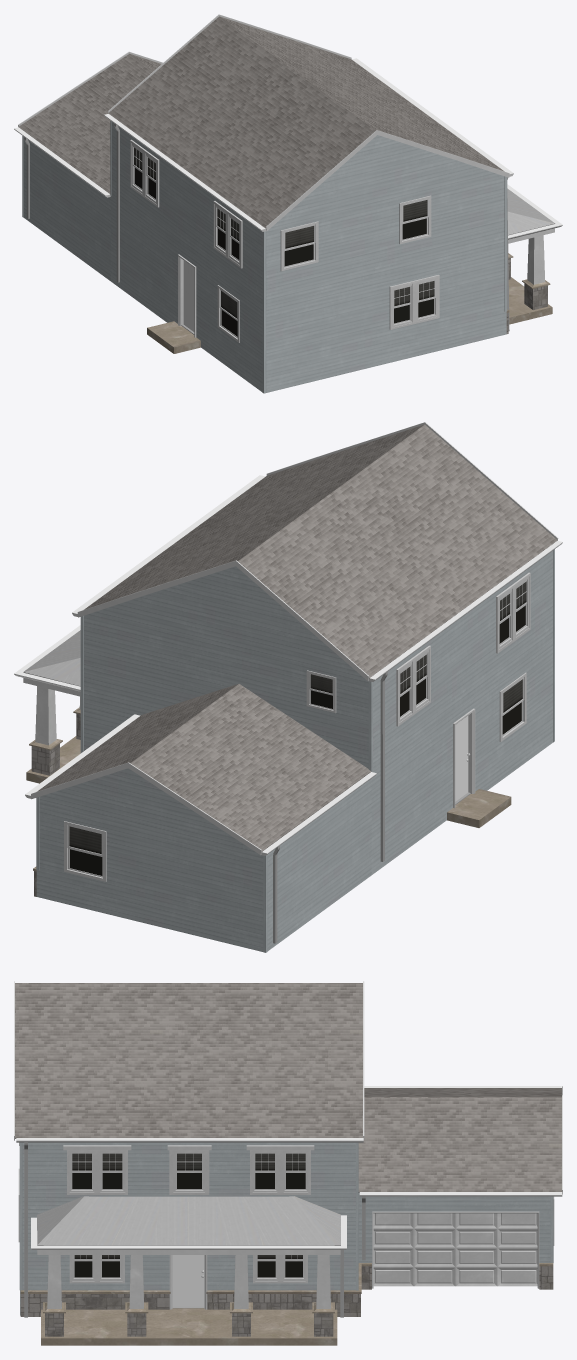
File: home-5.glb
3 views of the same model, one above another, from view 1: azimuth 30°, elevation 25°; view 2: azimuth 150°, elevation 25°; view 3: azimuth 270°, elevation 25° (orthographic). The views are drawn at different scales.
Visible parts, largest first — view 1: Home5_col_V4; view 2: Home5_col_V4; view 3: Home5_col_V4.
Part boxes in pixels (left/top/right/bottom): Home5_col_V4: left=14, top=14, right=562, bottom=393; Home5_col_V4: left=14, top=422, right=562, bottom=952; Home5_col_V4: left=14, top=981, right=562, bottom=1345.
Bounding box in the file's own units: 11.3 × 7.78 × 14.69.
1 material, 1 textured.
